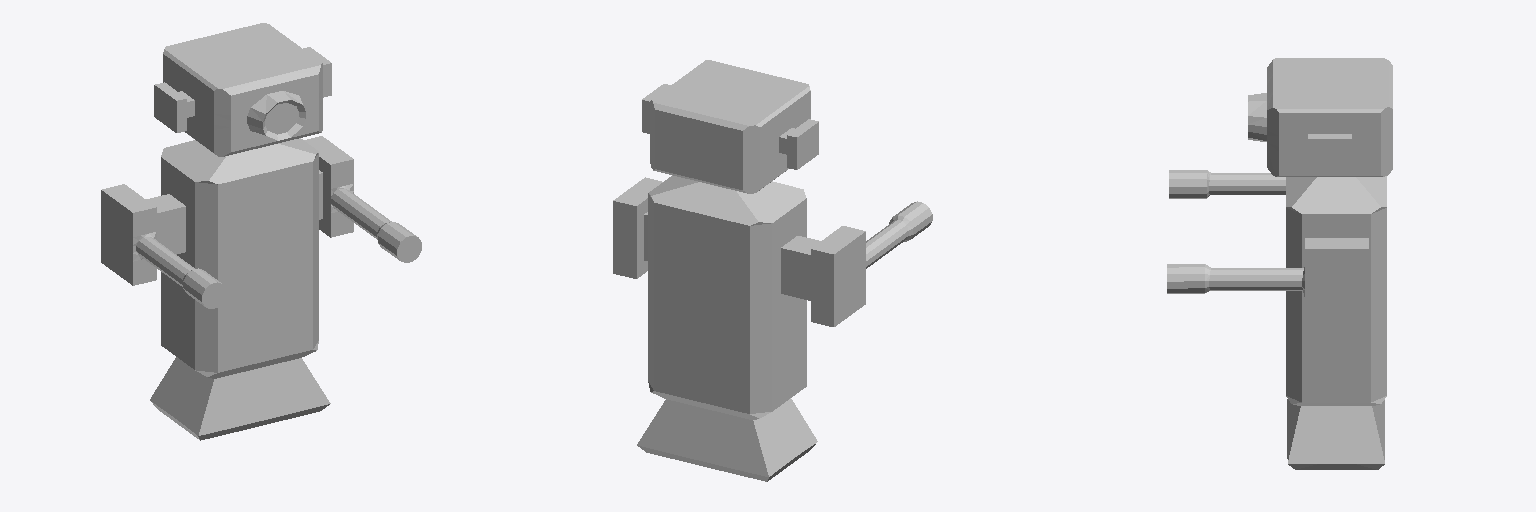
The model's file is TrainingBot.obj.
3 renders of one model, left to right at view 1: azimuth 30°, elevation 25°; view 2: azimuth 150°, elevation 25°; view 3: azimuth 270°, elevation 25°, orthographic.
Size of the model in its own units: 2.02 by 3.11 by 1.79.